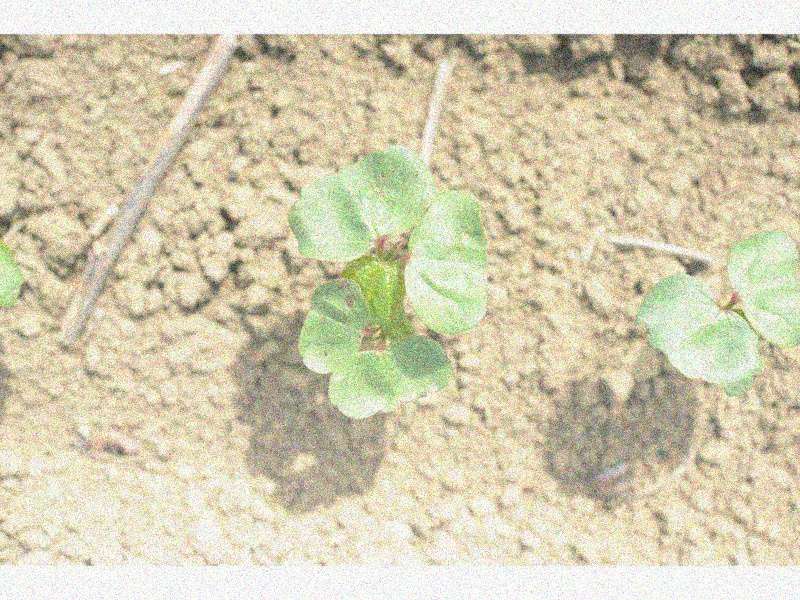cotton: (287, 147, 489, 419), (639, 228, 800, 395)
